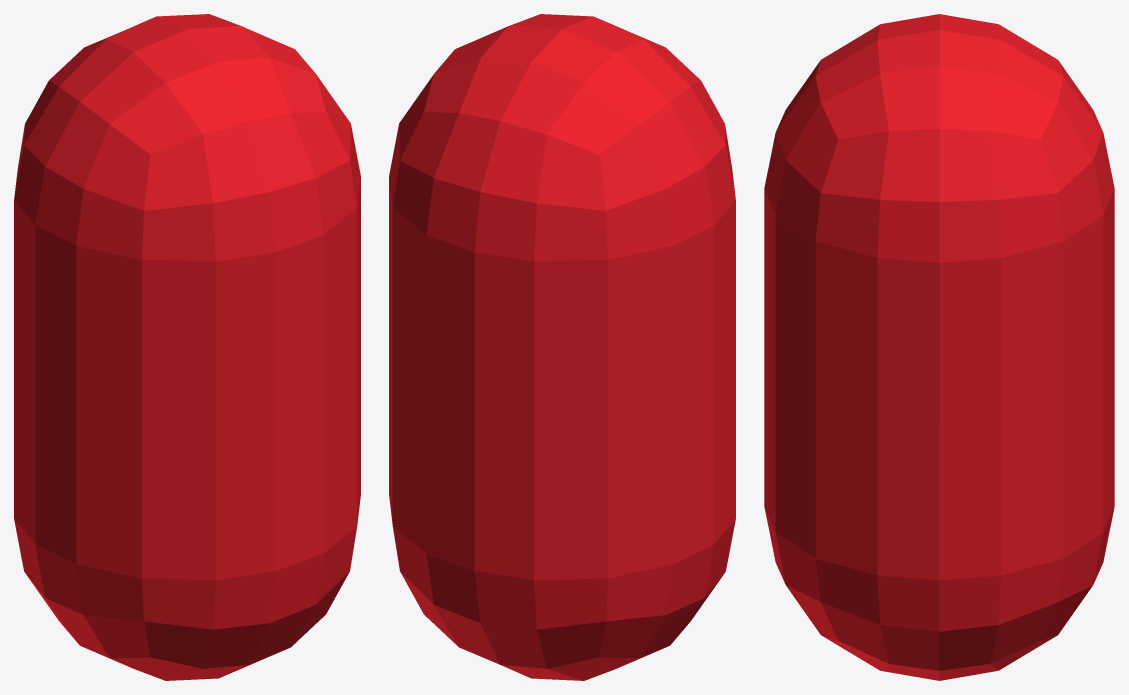
File: OpponentMinion.fbx
3 views of the same model, side by side, from view 1: azimuth 30°, elevation 25°; view 2: azimuth 150°, elevation 25°; view 3: azimuth 270°, elevation 25° (orthographic).
Visible parts, largest first — view 1: Roundcube; view 2: Roundcube; view 3: Roundcube.
Boxes of the visible parts, x1,y1,x2,y2 form: Roundcube: (14,14,360,680); Roundcube: (389,14,735,680); Roundcube: (764,14,1114,680).
Bounding box in the file's own units: 60 × 120 × 60.
